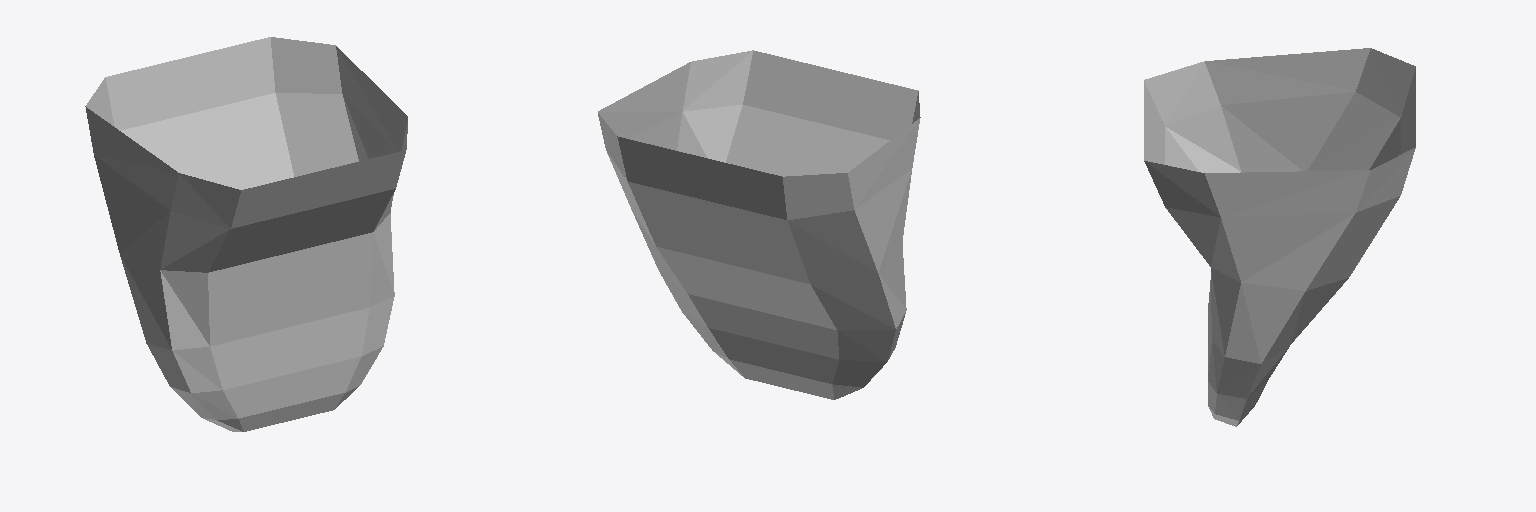
Rendered from trigger.obj.
The picture shows the model from 3 angles: view 1: azimuth 30°, elevation 25°; view 2: azimuth 150°, elevation 25°; view 3: azimuth 270°, elevation 25°; orthographic projection.
Visible parts, largest first — view 1: trigger2:group1 trigger2:trigger trigger2:polySurface1; view 2: trigger2:group1 trigger2:trigger trigger2:polySurface1; view 3: trigger2:group1 trigger2:trigger trigger2:polySurface1.
Part boxes in pixels (bbox=[...]): trigger2:group1 trigger2:trigger trigger2:polySurface1: bbox=[85, 37, 407, 431]; trigger2:group1 trigger2:trigger trigger2:polySurface1: bbox=[598, 50, 920, 399]; trigger2:group1 trigger2:trigger trigger2:polySurface1: bbox=[1144, 48, 1415, 426].
Bounding box in the file's own units: 0.019 × 0.0216 × 0.0179.